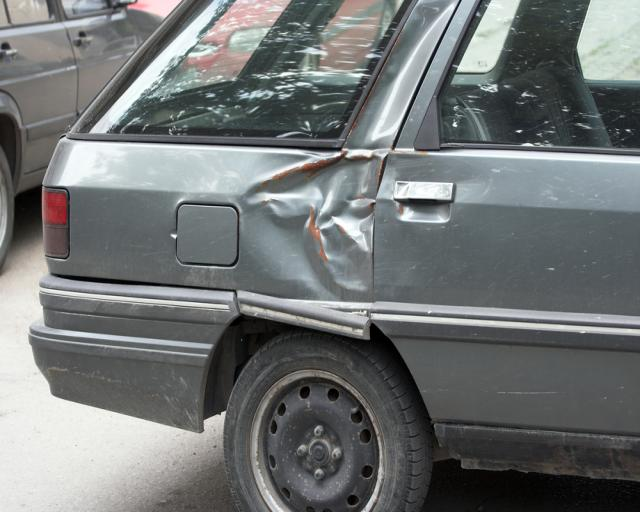dent: (241, 151, 383, 299)
